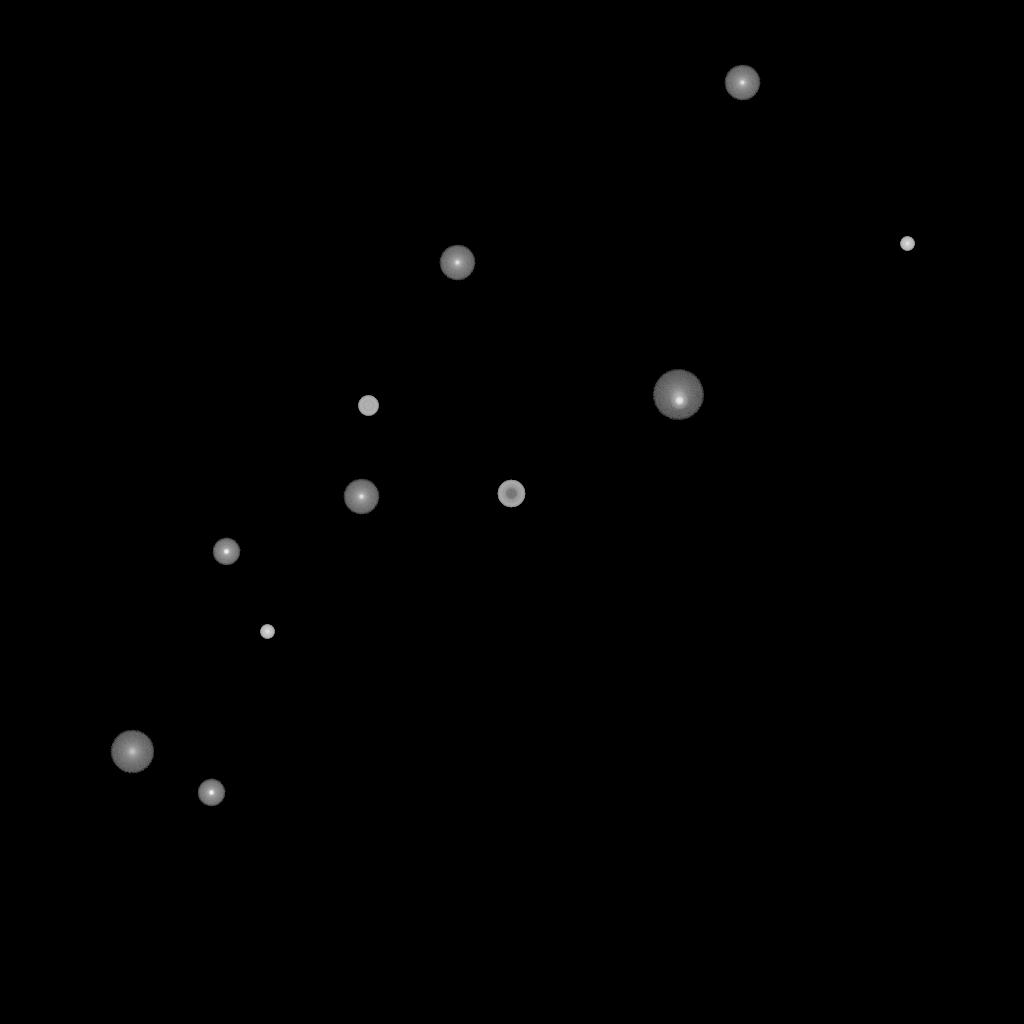depth:-10: (197, 779, 225, 807), (212, 538, 240, 566)
depth:-20: (670, 392, 688, 410)
depth:-30: (260, 625, 274, 639), (900, 237, 914, 251)
depth:-40: (358, 396, 378, 416)
depth:-50: (497, 480, 525, 508)
depth:0: (439, 245, 475, 281), (724, 65, 760, 101), (343, 479, 379, 515)
depth:10: (110, 730, 154, 774)
depth:20: (652, 370, 704, 420)
